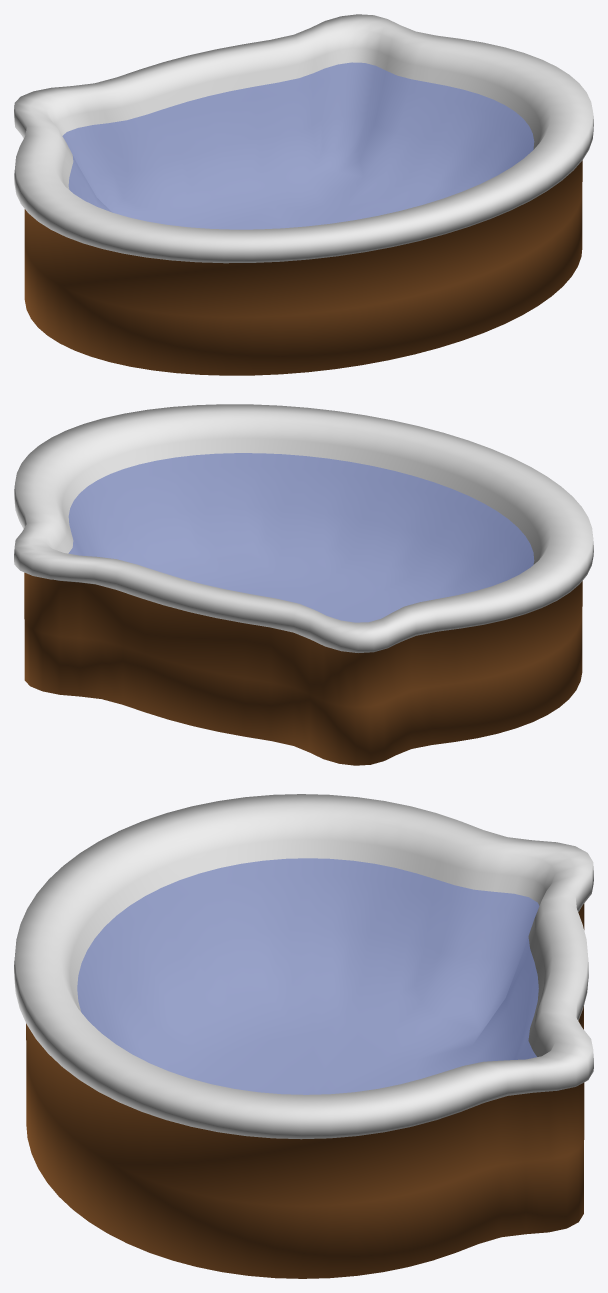
File: Hot Tub.fbx
3 renders of one model, top to bottom at view 1: azimuth 30°, elevation 25°; view 2: azimuth 150°, elevation 25°; view 3: azimuth 270°, elevation 25°, orthographic. The views are drawn at different scales.
Visible parts, largest first — view 1: Hot Tub Mesh, Hot Tub Water; view 2: Hot Tub Mesh, Hot Tub Water; view 3: Hot Tub Mesh, Hot Tub Water.
Boxes of the visible parts, <box> form: Hot Tub Mesh: <box>14,14,593,375</box>; Hot Tub Water: <box>62,62,534,229</box>; Hot Tub Mesh: <box>14,404,593,765</box>; Hot Tub Water: <box>68,453,534,622</box>; Hot Tub Mesh: <box>14,794,593,1278</box>; Hot Tub Water: <box>77,858,539,1094</box>.
Size of the model in its own units: 413 by 100 by 313.
